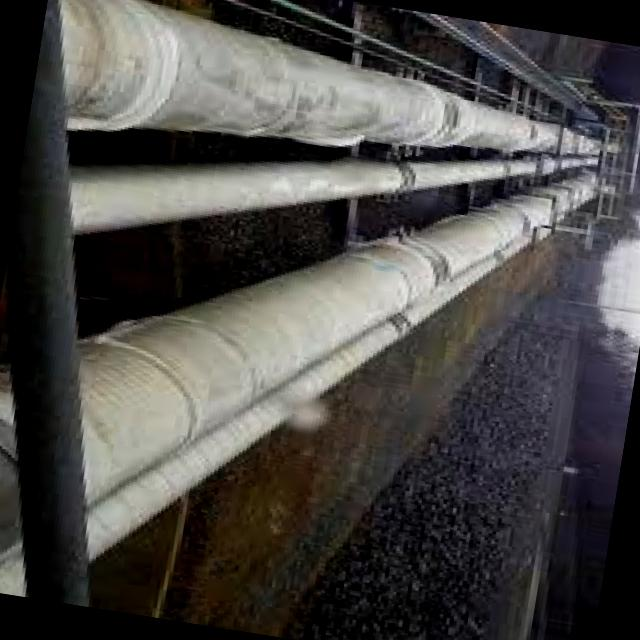gas: (79, 177, 593, 558), (61, 0, 598, 151), (72, 160, 592, 235), (0, 369, 24, 597)
